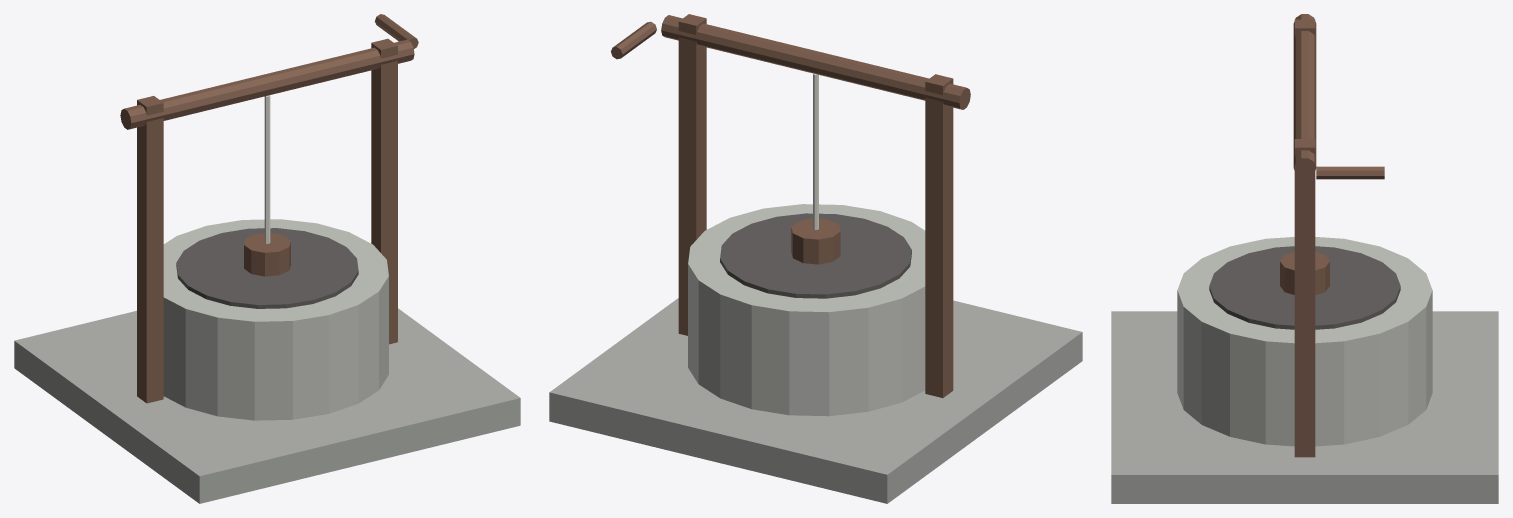
Rendered from well.glb.
3 views of the same model, side by side, from view 1: azimuth 30°, elevation 25°; view 2: azimuth 150°, elevation 25°; view 3: azimuth 270°, elevation 25° (orthographic). The views are drawn at different scales.
Parts seen in each view (by area): view 1: well; view 2: well; view 3: well.
Boxes of the visible parts, <box> form: well: <box>14,14,520,503</box>; well: <box>549,14,1082,503</box>; well: <box>1111,14,1498,503</box>.
Size of the model in its own units: 1.7 by 1.64 by 1.7.
